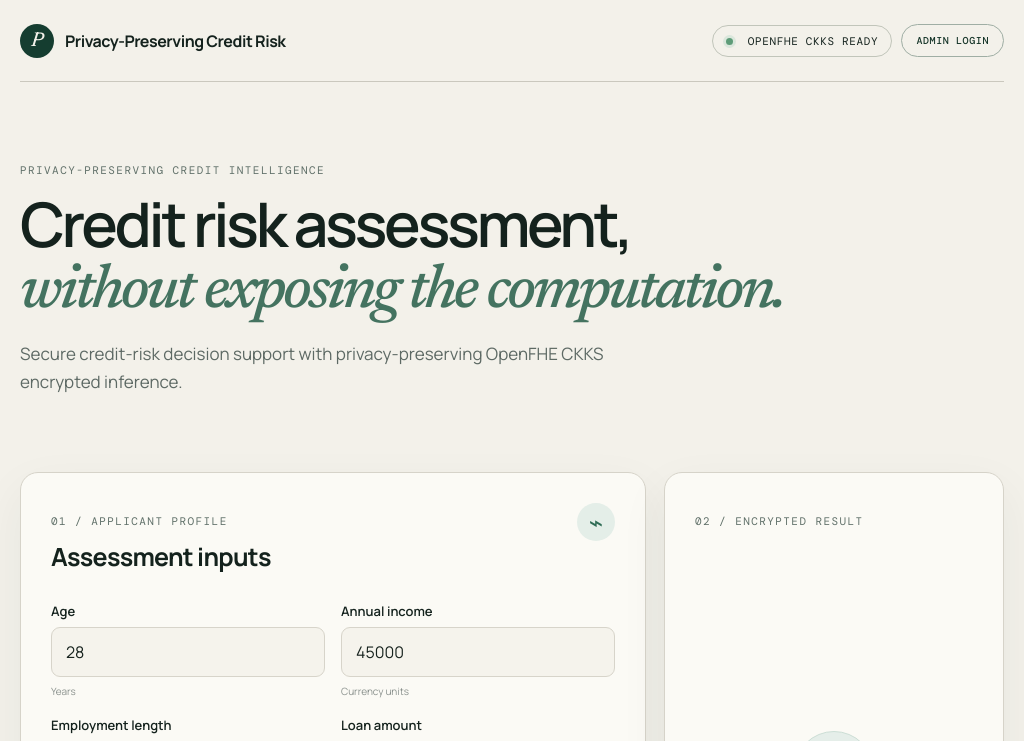
Test: admin routing and authentication › links the customer site and administrator login without bypassing authentication
Click the link "Admin Login" at (953, 40), box [901,24,1004,57]
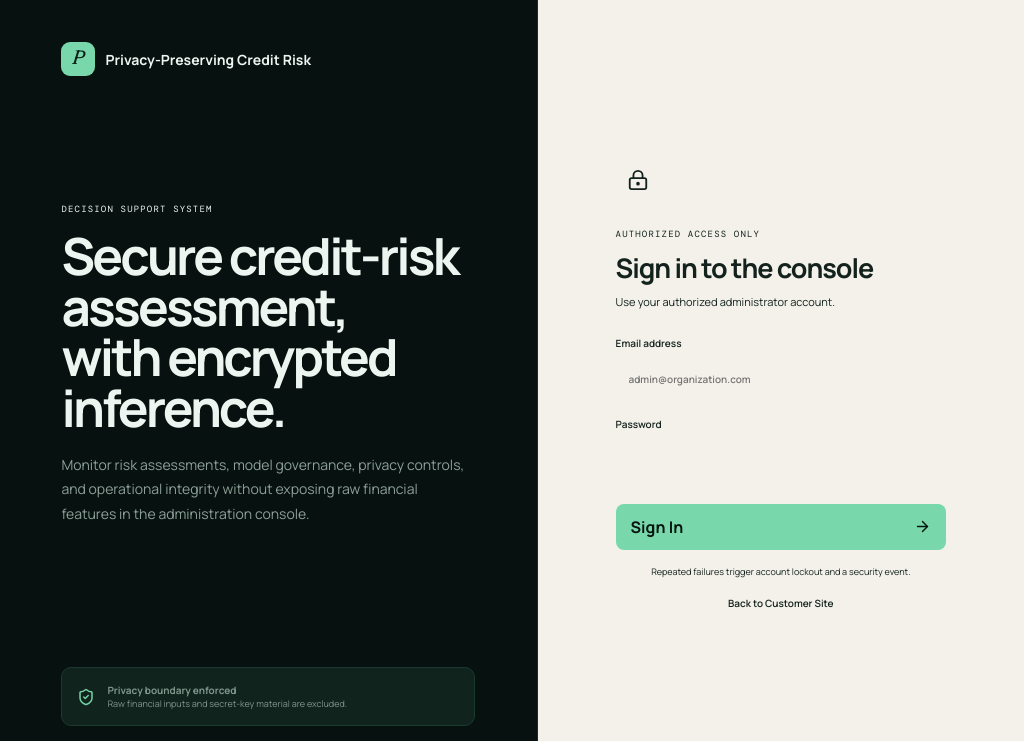
Check: the heading "Sign in to the console" is shown, box [616,249,873,286]
